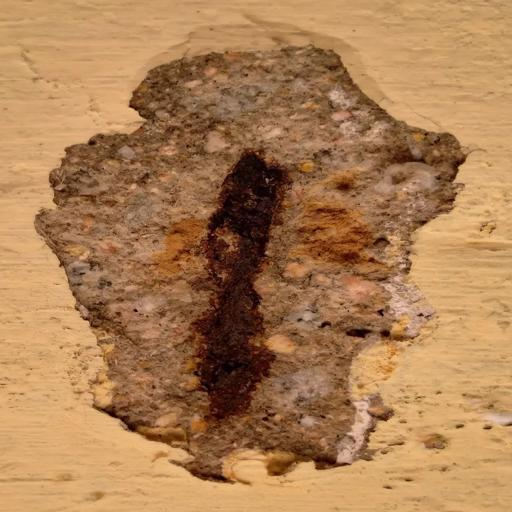spalling: (14, 18, 467, 484)
